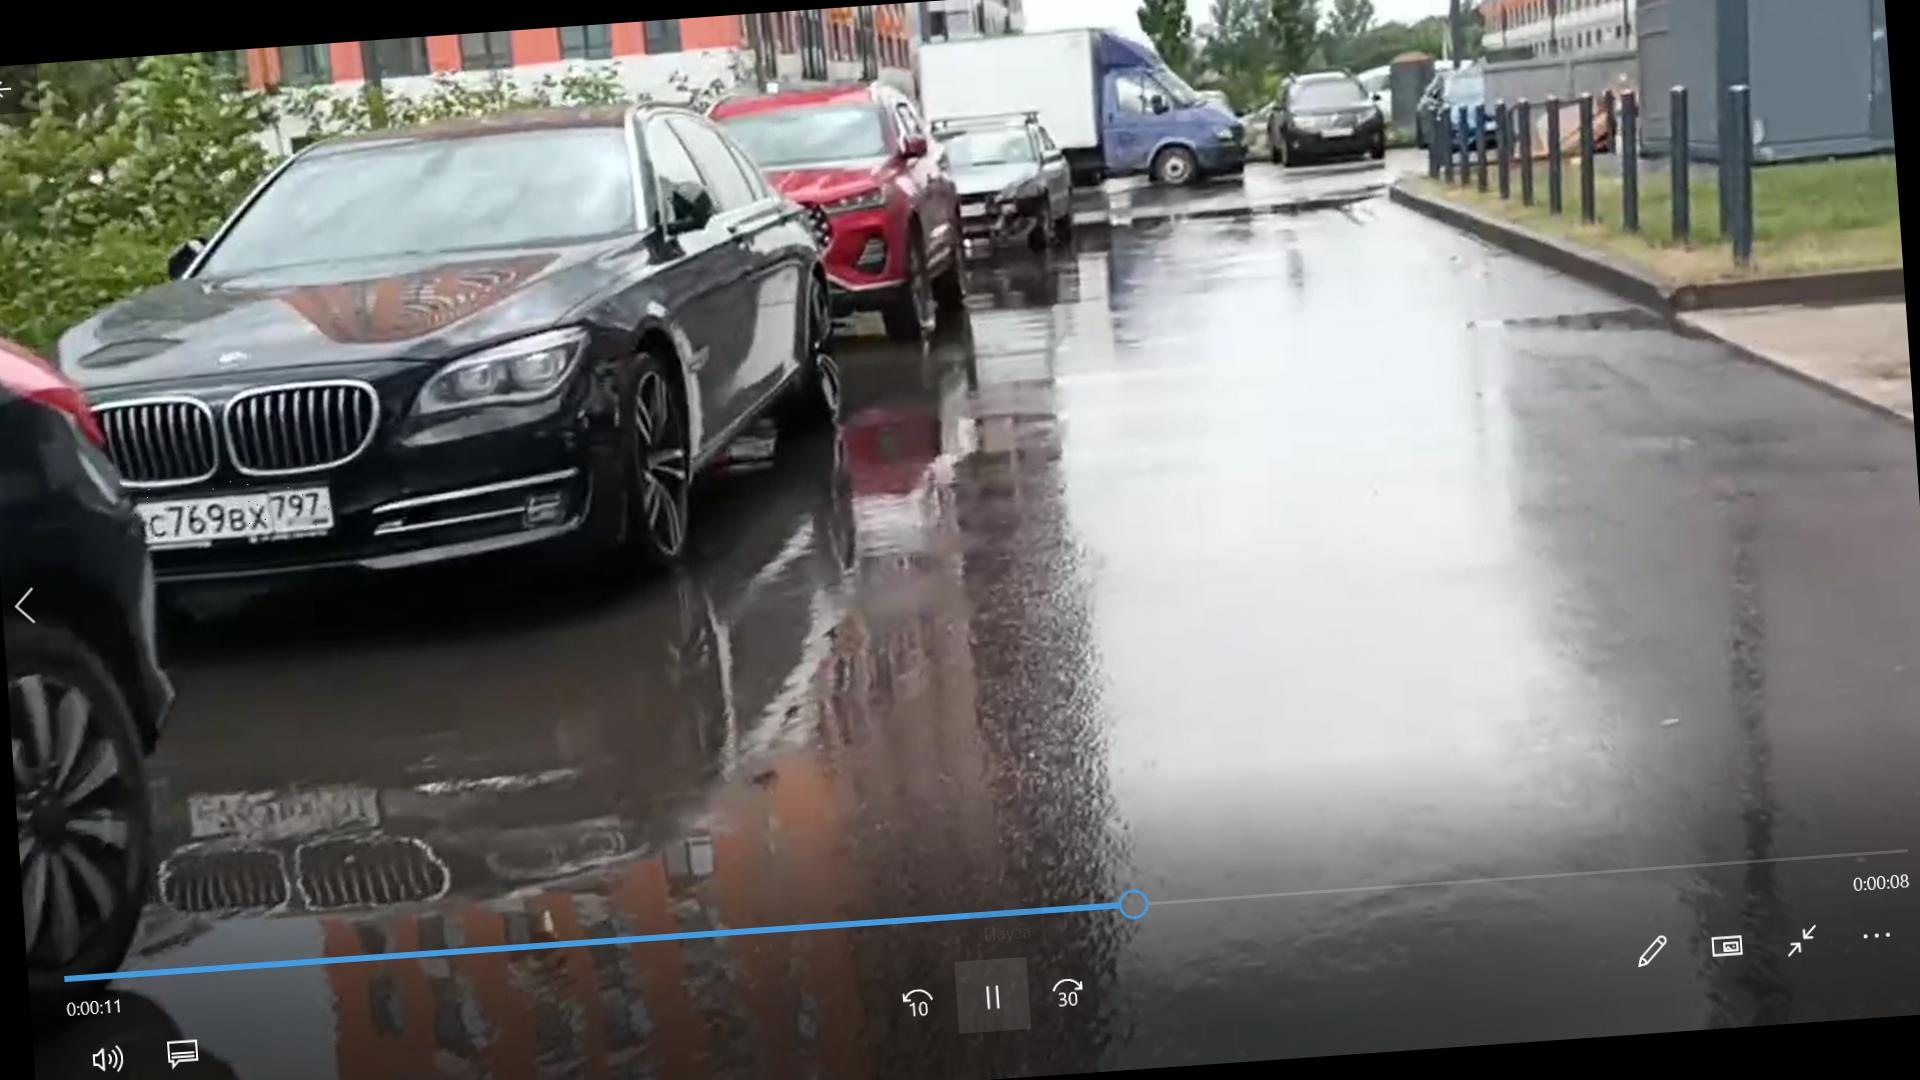plate: (127, 474, 338, 545)
